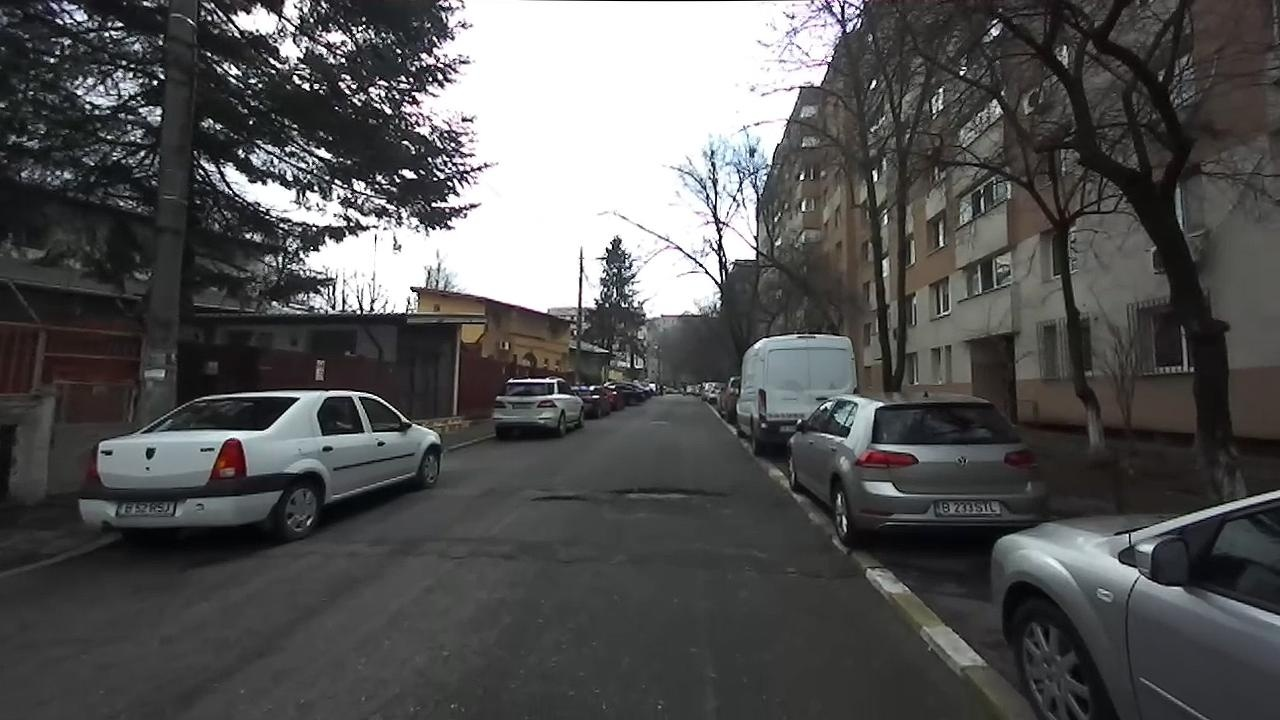pothole: (606, 484, 730, 504), (529, 493, 591, 505)
